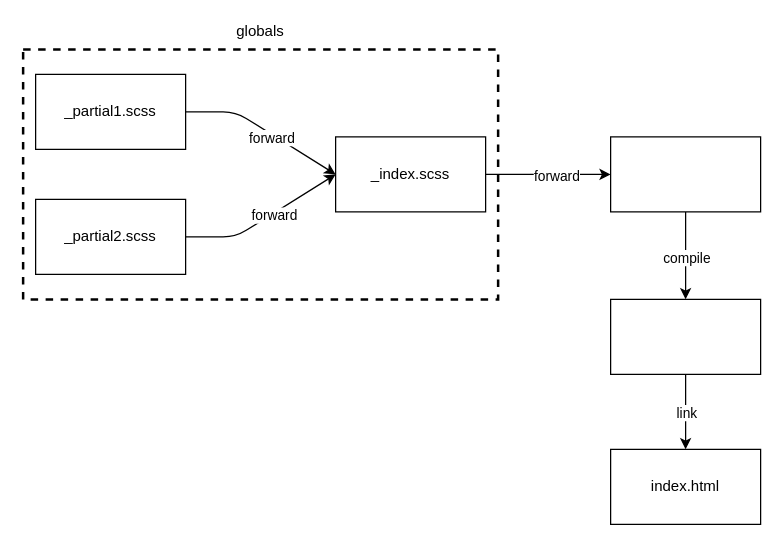
Image size: 783x546. Some labels were removed from this diagram. Each missing label, with the centre of its shape:
"style.css" belongs at [685,336].
"style.scss" belongs at [685,174].
